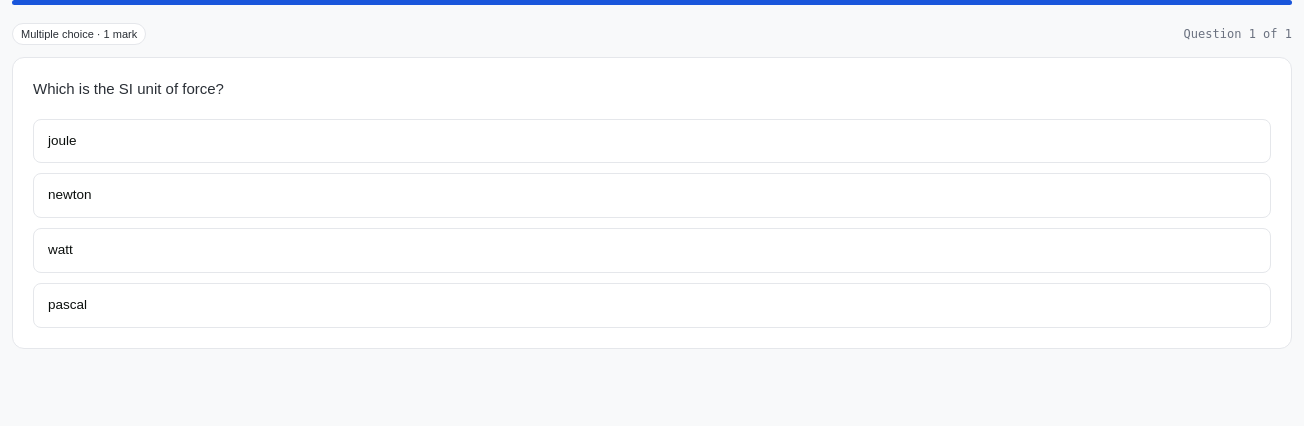
Test case: answering multiple choice › marks a wrong choice and highlights the right one
Click the button "watt" at point(60, 250), box [33,228,1271,273]
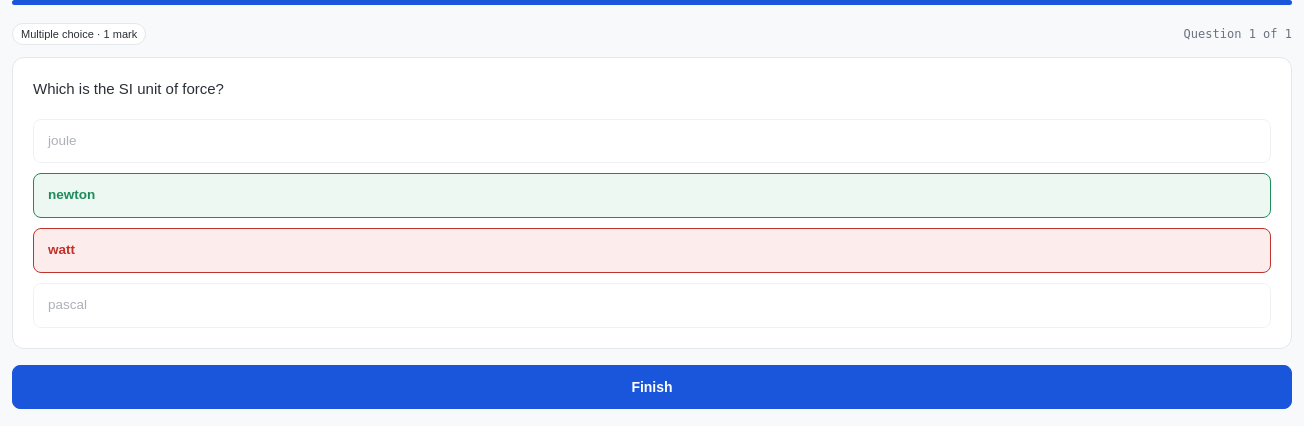
Expected: the button "Finish" is shown, [12,365,1292,409]
